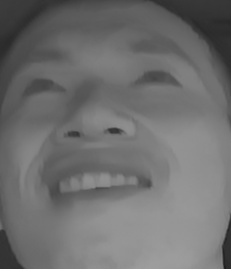eye: (128, 62, 187, 99), (20, 74, 72, 103)
mouth: (37, 148, 161, 218)
